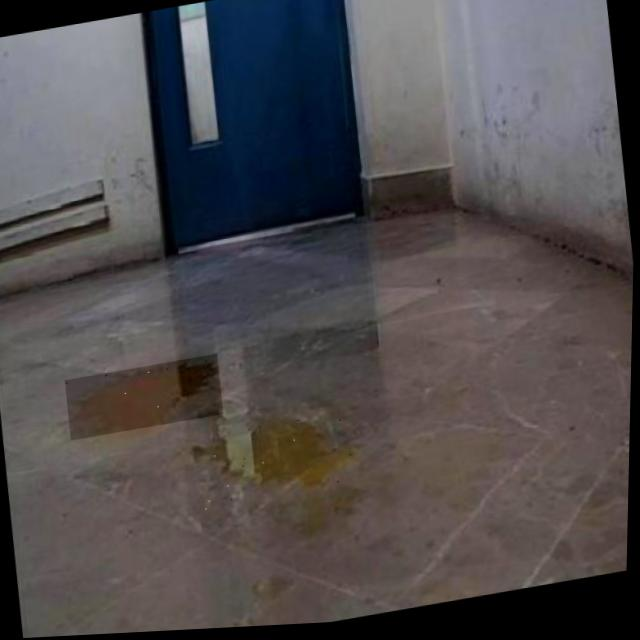spillage: (194, 418, 358, 494), (71, 364, 219, 433)
